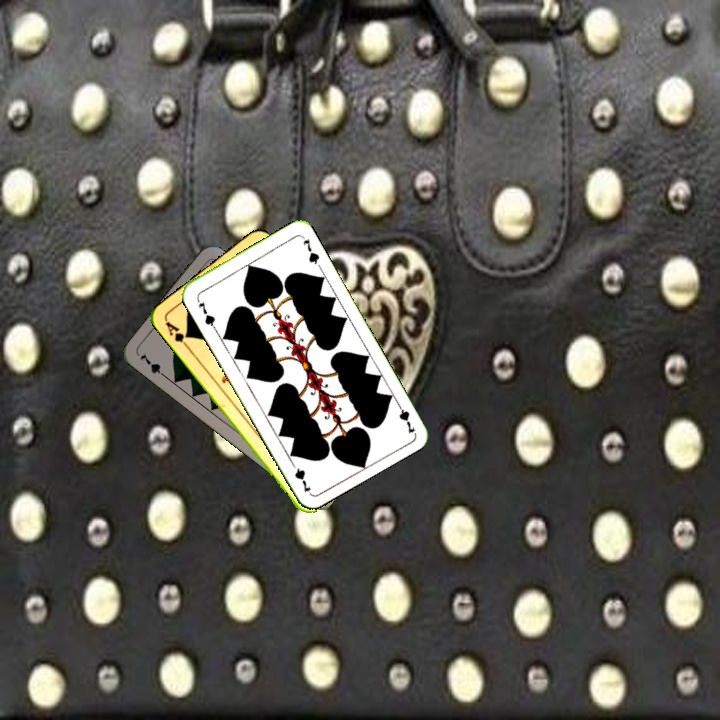G7: (136, 349, 170, 381), (392, 397, 418, 436), (194, 297, 218, 331)
GA: (161, 317, 192, 351)
